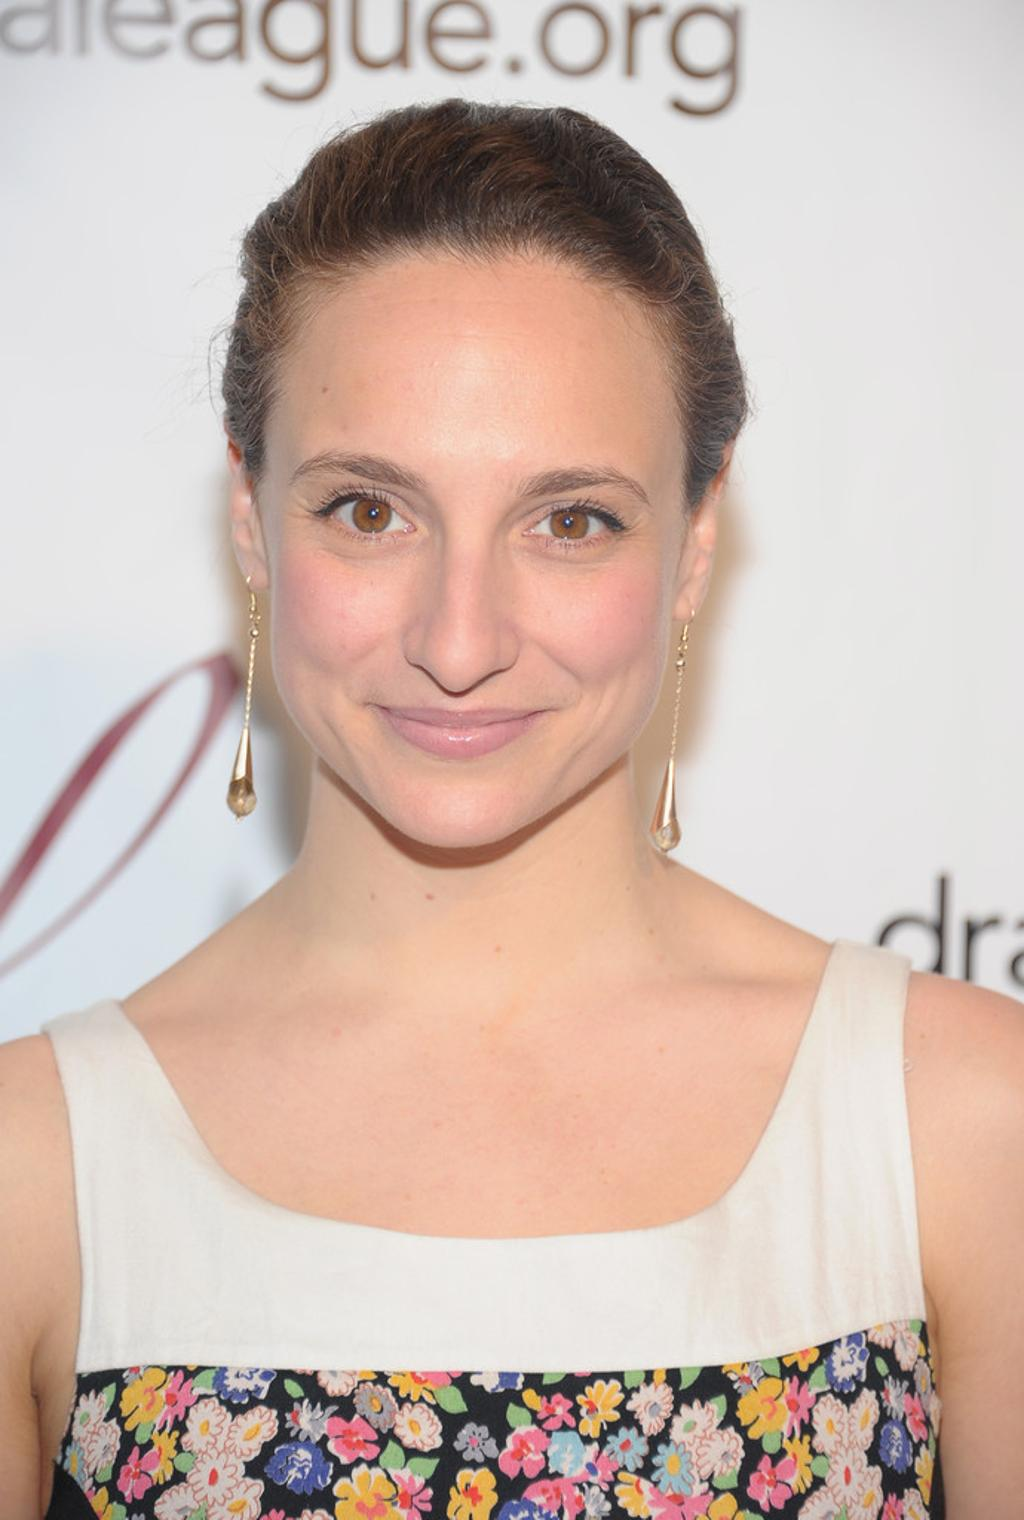face: (259, 224, 686, 853)
